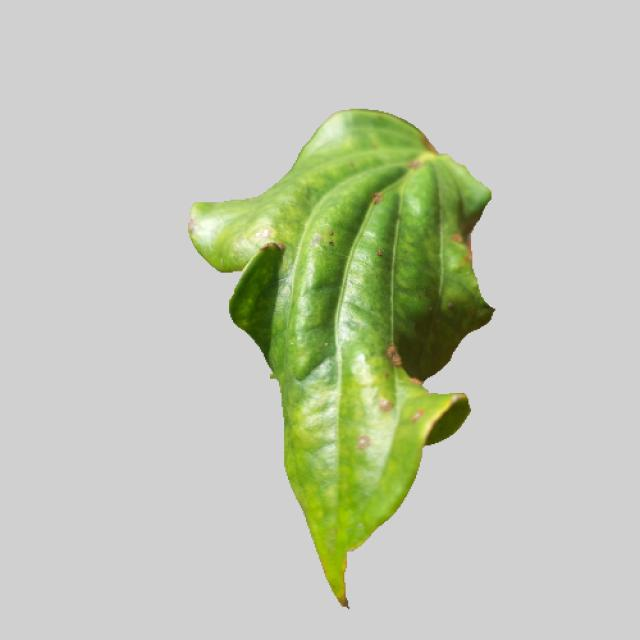yellow-mottle-virus: (155, 110, 502, 613)
